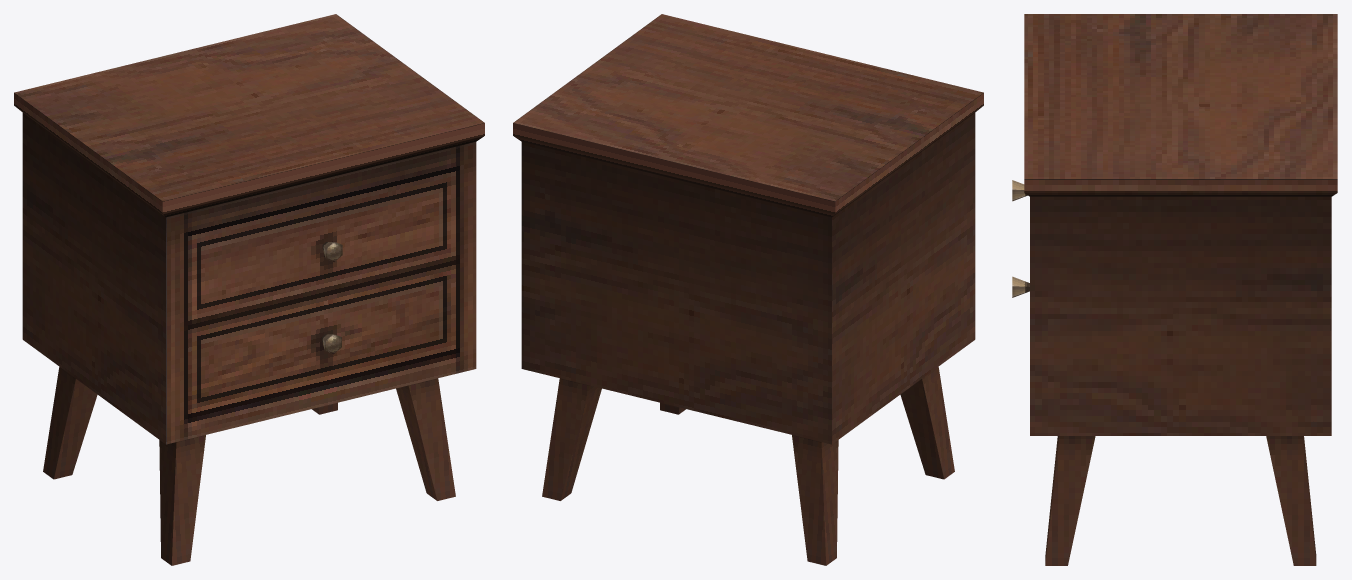
Rendered from nightStand.glb.
3 renders of one model, left to right at view 1: azimuth 30°, elevation 25°; view 2: azimuth 150°, elevation 25°; view 3: azimuth 270°, elevation 25°, orthographic. The views are drawn at different scales.
Visible parts, largest first — view 1: nightStand; view 2: nightStand; view 3: nightStand.
Part boxes in pixels (x1=…): nightStand: x1=14, y1=14, x2=484, y2=565; nightStand: x1=513, y1=14, x2=983, y2=565; nightStand: x1=1012, y1=14, x2=1337, y2=565.
Bounding box in the file's own units: 0.5193 × 0.5799 × 0.431.
Materials: 1 (1 with a texture image).
